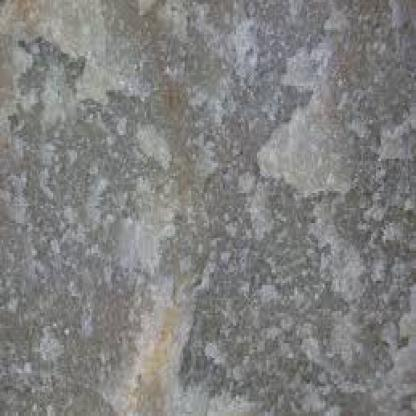Metamorphic_Quartize: (1, 4, 414, 414)
